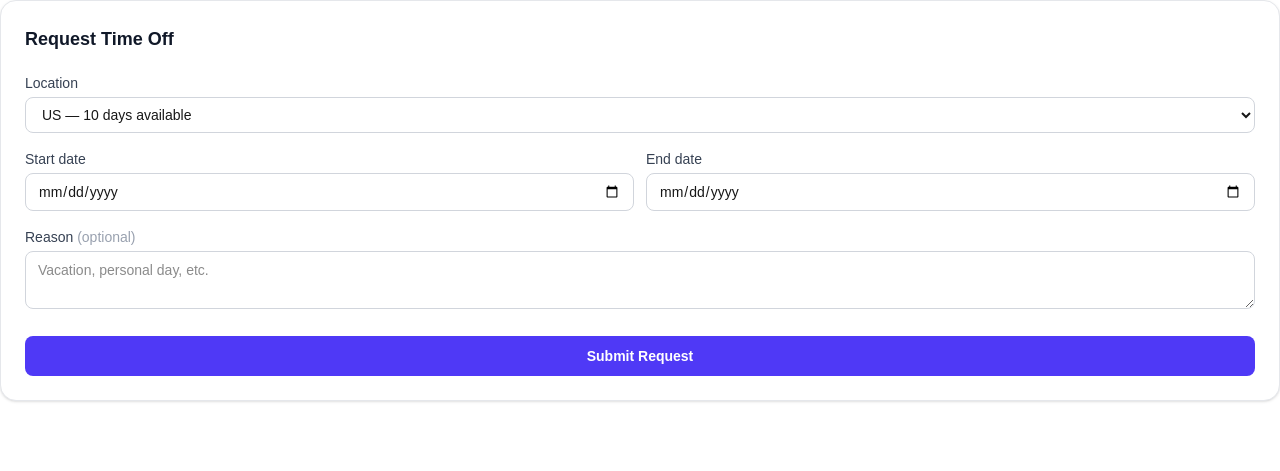
Test: TimeOffForm › shows validation error when submitted without dates
This screenshot has width=1280, height=471.
Click the button with test id "submit-button".
click(640, 356)  # box [25,336,1255,376]
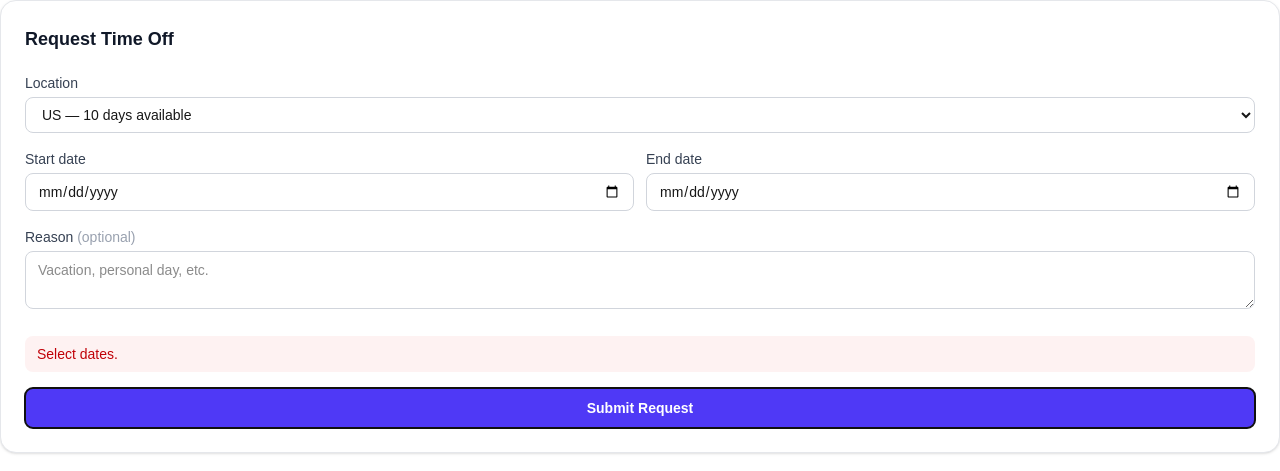
Result: the message "Select dates." is shown at [25,336,1255,372]
